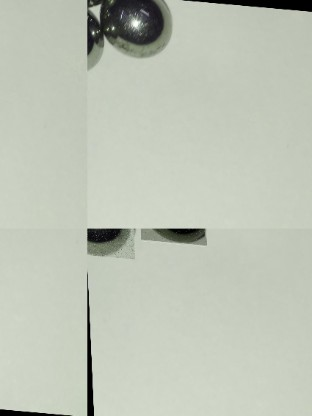ironball: (100, 0, 175, 56), (87, 228, 133, 257), (86, 0, 103, 70), (137, 228, 205, 243)
